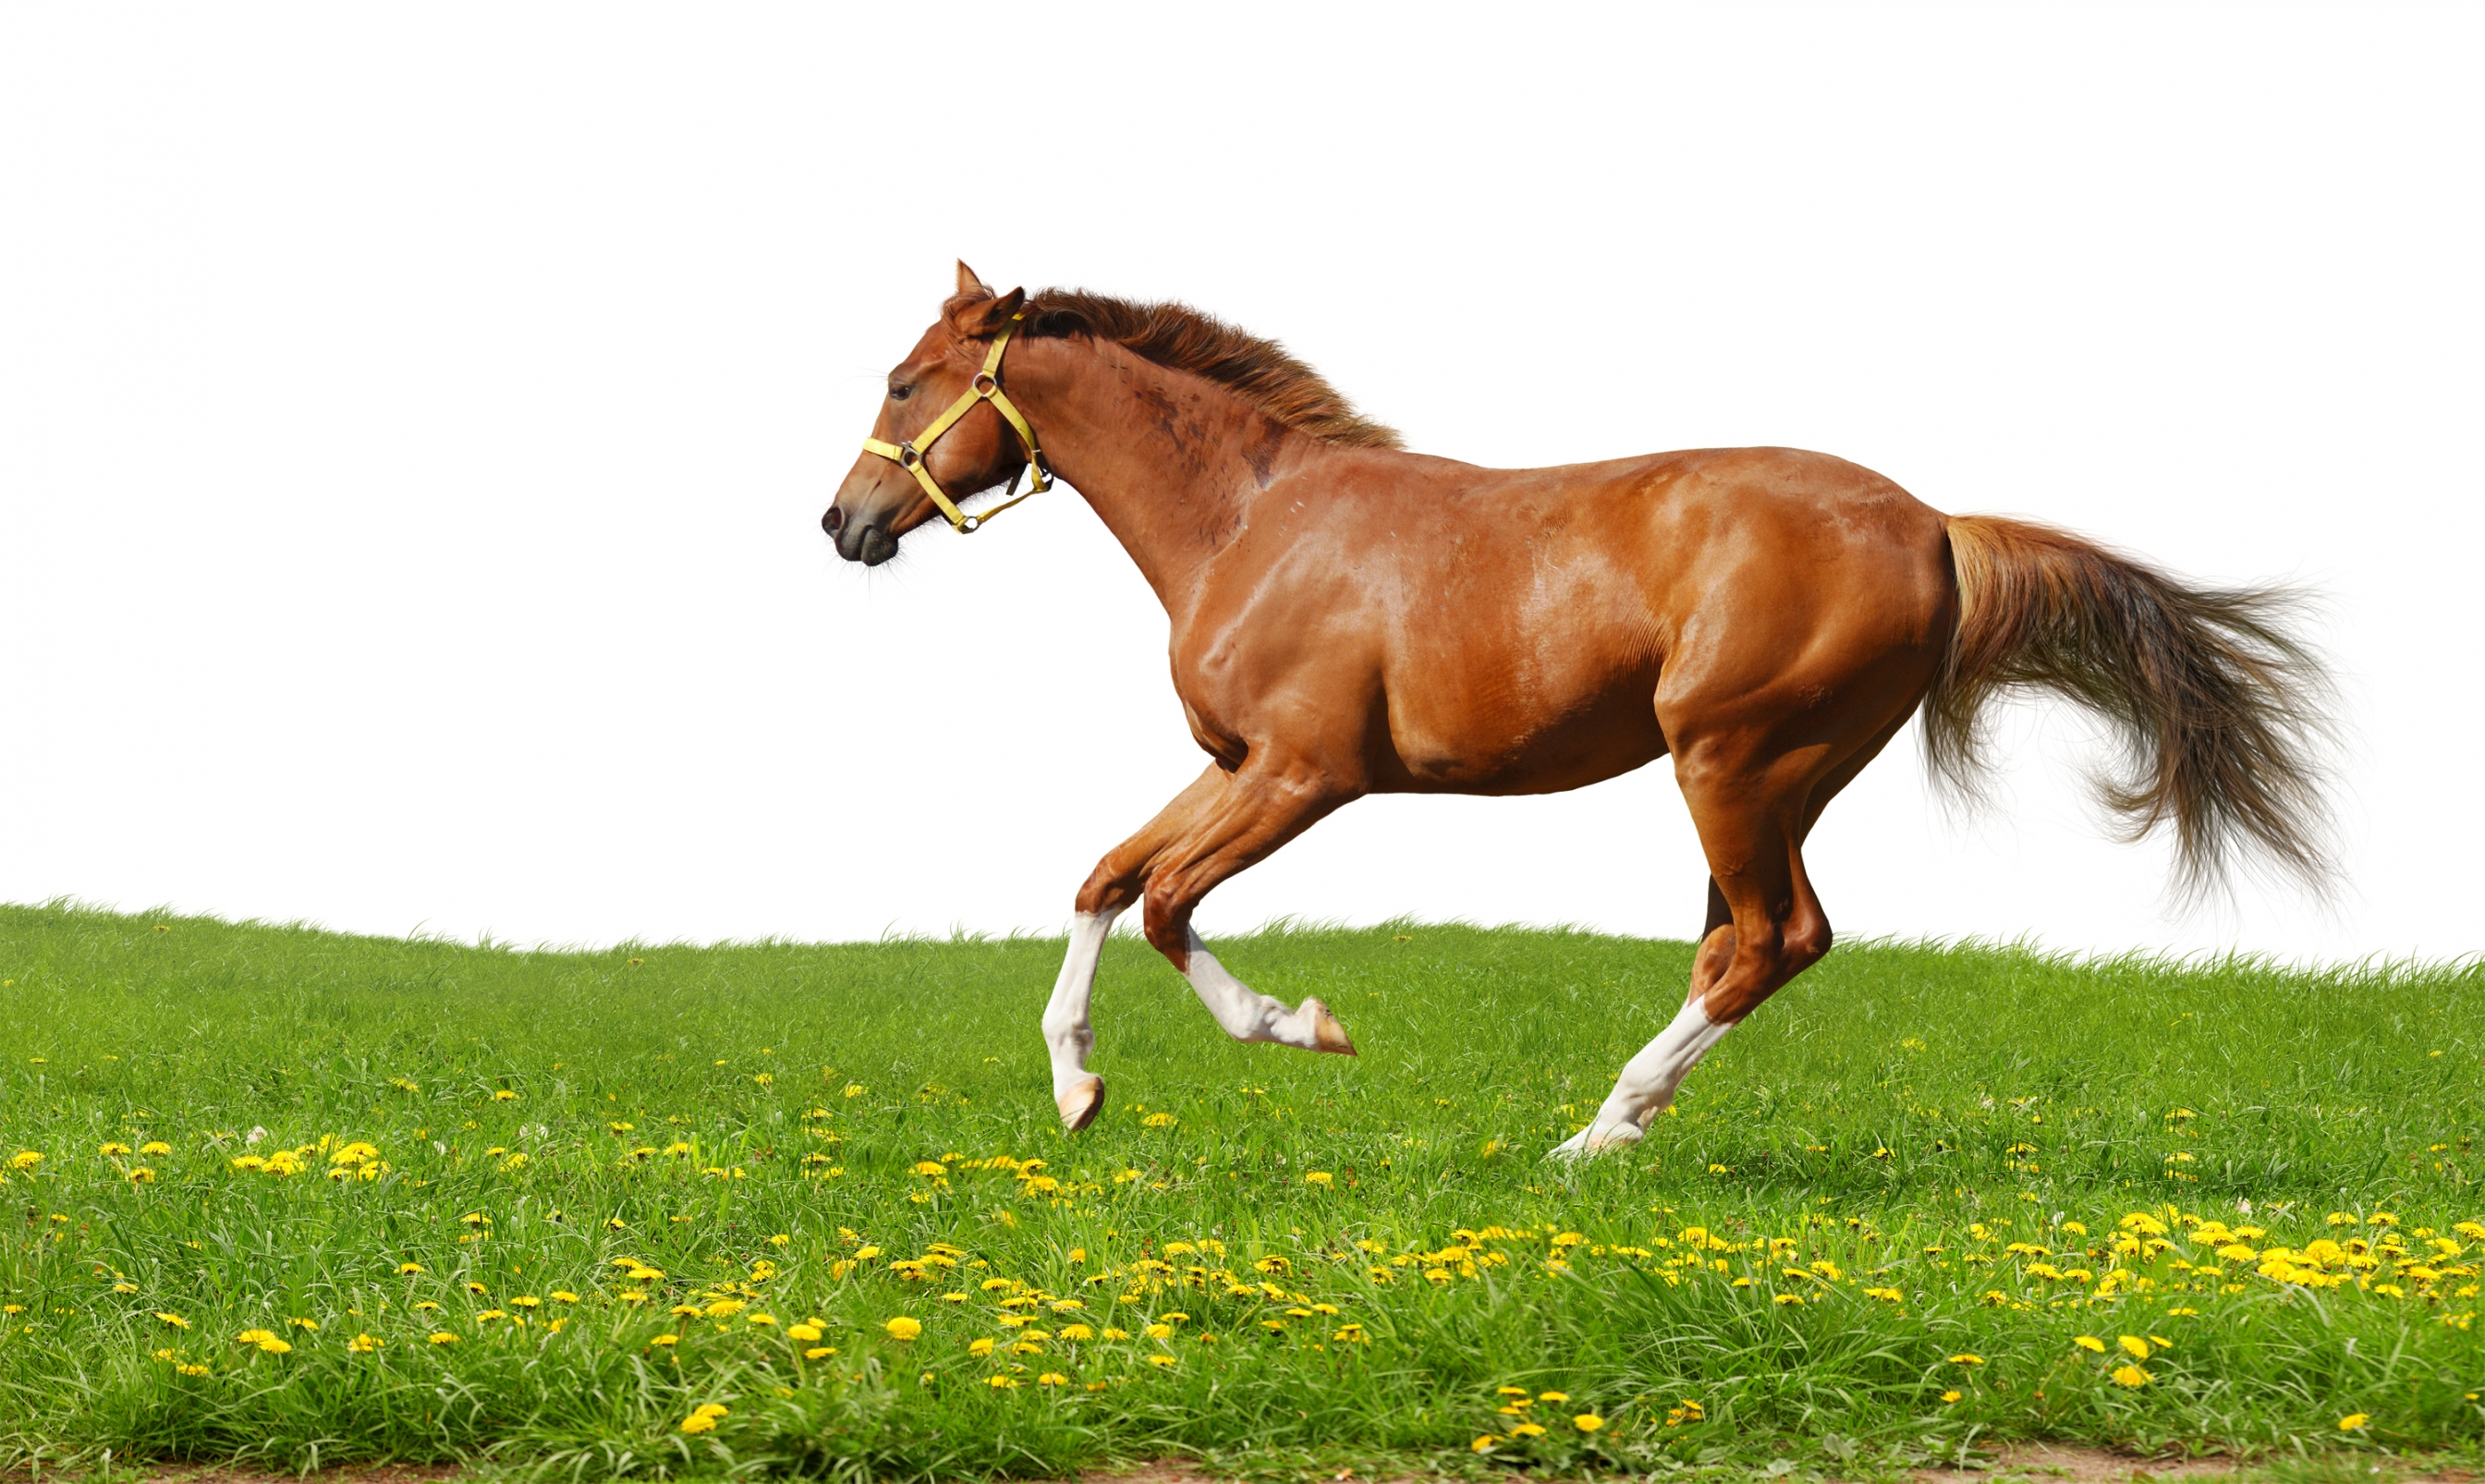horse: (800, 260, 2268, 1152)
